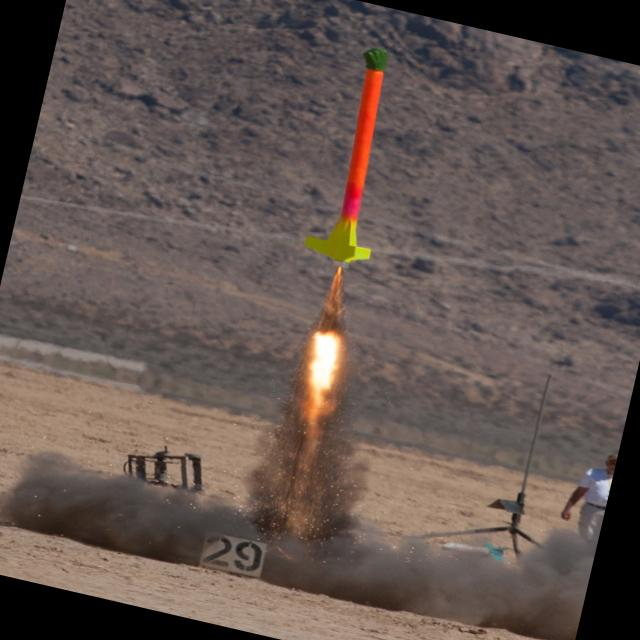rocket: (275, 39, 425, 406)
